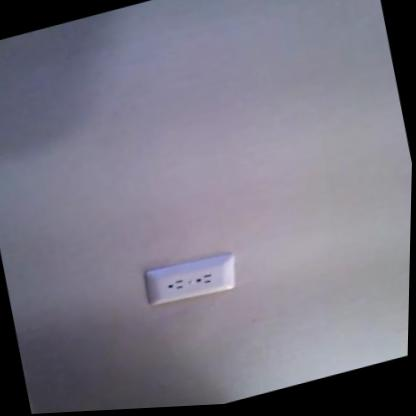OUTLET: (140, 247, 239, 311)
